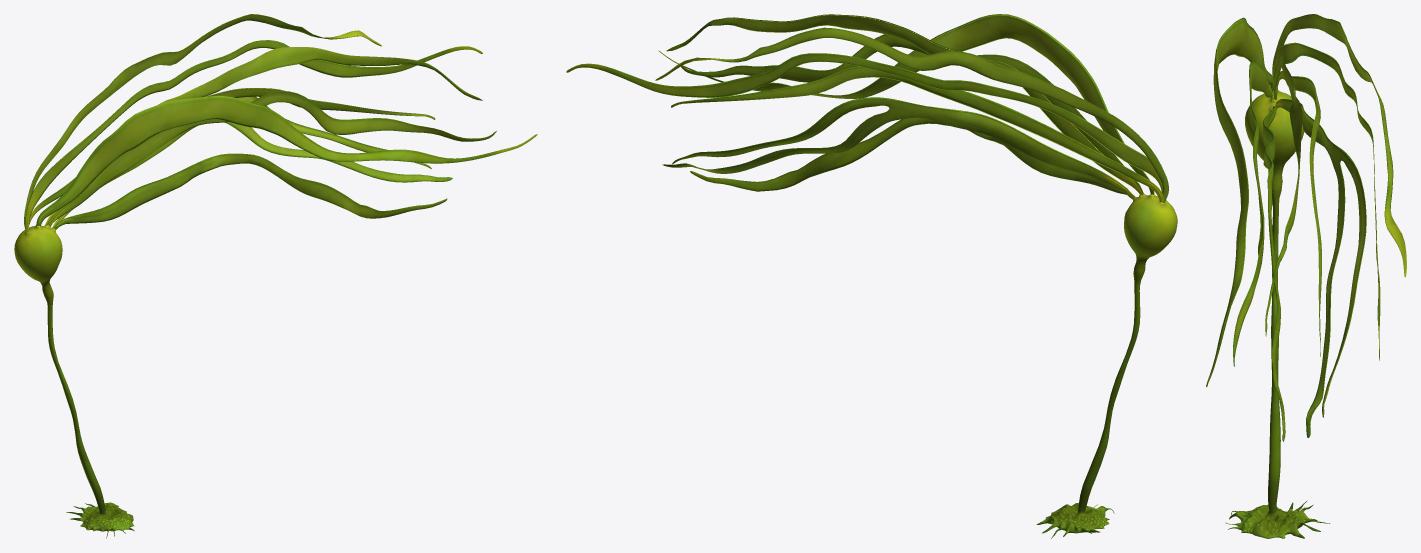
File: kelp_animated 1.fbx
The picture shows the model from 3 angles, left to right: view 1: azimuth 30°, elevation 25°; view 2: azimuth 150°, elevation 25°; view 3: azimuth 270°, elevation 25°; orthographic projection. The views are drawn at different scales.
Visible parts, largest first — view 1: node_id30; view 2: node_id30; view 3: node_id30.
Part boxes in pixels (x1,y1,x2,y2): node_id30: (14, 14, 537, 538); node_id30: (566, 14, 1177, 538); node_id30: (1206, 14, 1406, 538).
Size of the model in its own units: 27.13 by 22.15 by 7.4.
